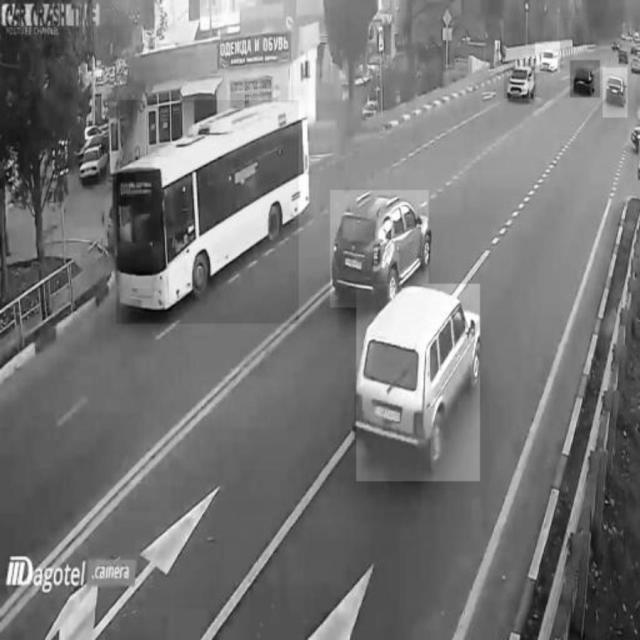vehicle: (117, 100, 299, 324), (356, 284, 480, 481), (330, 190, 428, 308), (505, 59, 537, 99), (603, 68, 628, 118), (570, 61, 600, 98), (79, 144, 106, 185), (535, 42, 560, 72)
